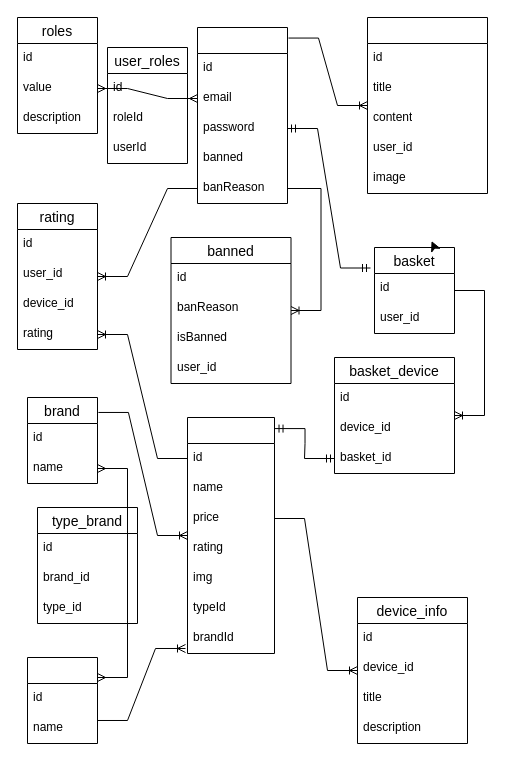
Image size: 510x764. Some labels were removed from this diagram. The shapes that lost their labels are listed below. From the top down, each one's box as (x1, y1, x2, y2) in pixels, then its label:
(196, 26, 288, 204): users
(366, 16, 488, 194): posts
(186, 416, 274, 654): device
(26, 656, 98, 744): type
